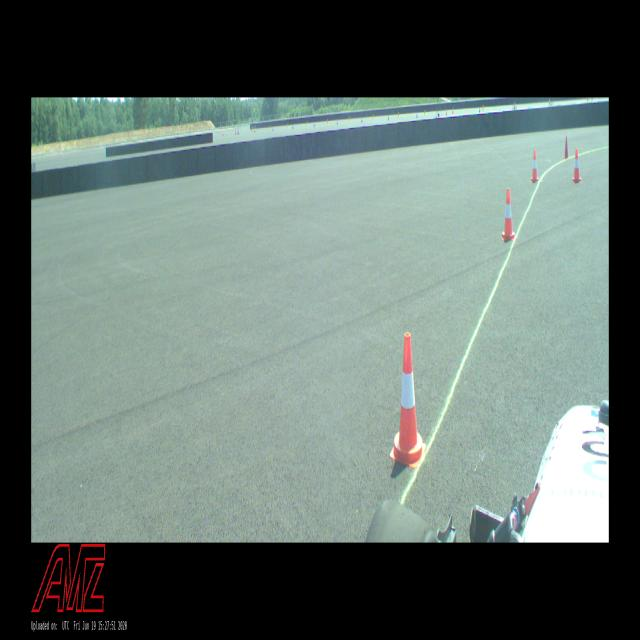orange_cone: (390, 333, 426, 468), (502, 189, 515, 240), (573, 149, 581, 183), (531, 150, 539, 182)
unknown_cone: (564, 136, 568, 159)
